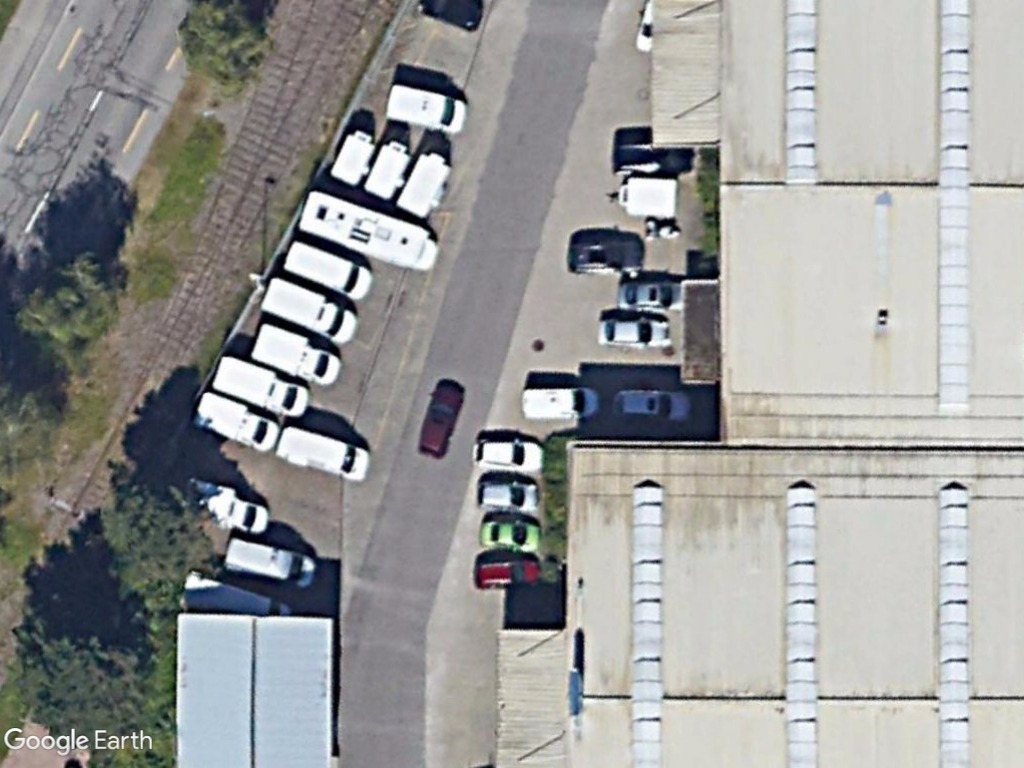car: (413, 376, 464, 464), (609, 386, 697, 425), (468, 431, 545, 475), (598, 317, 676, 352), (475, 517, 543, 554), (474, 478, 545, 513)
van: (256, 274, 358, 349), (211, 352, 312, 418), (243, 322, 342, 389), (217, 532, 322, 593), (274, 422, 372, 485), (281, 239, 375, 303), (188, 389, 279, 455), (379, 80, 468, 137), (518, 384, 600, 424)
